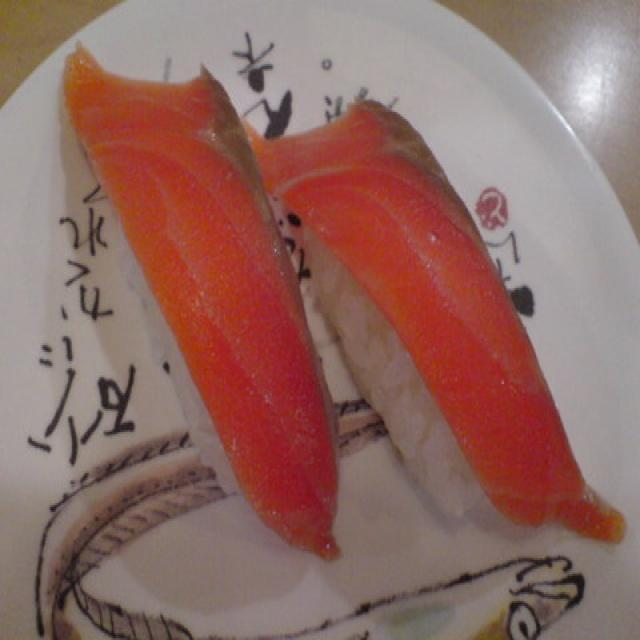Sushi: (68, 28, 344, 562), (266, 103, 562, 526)
